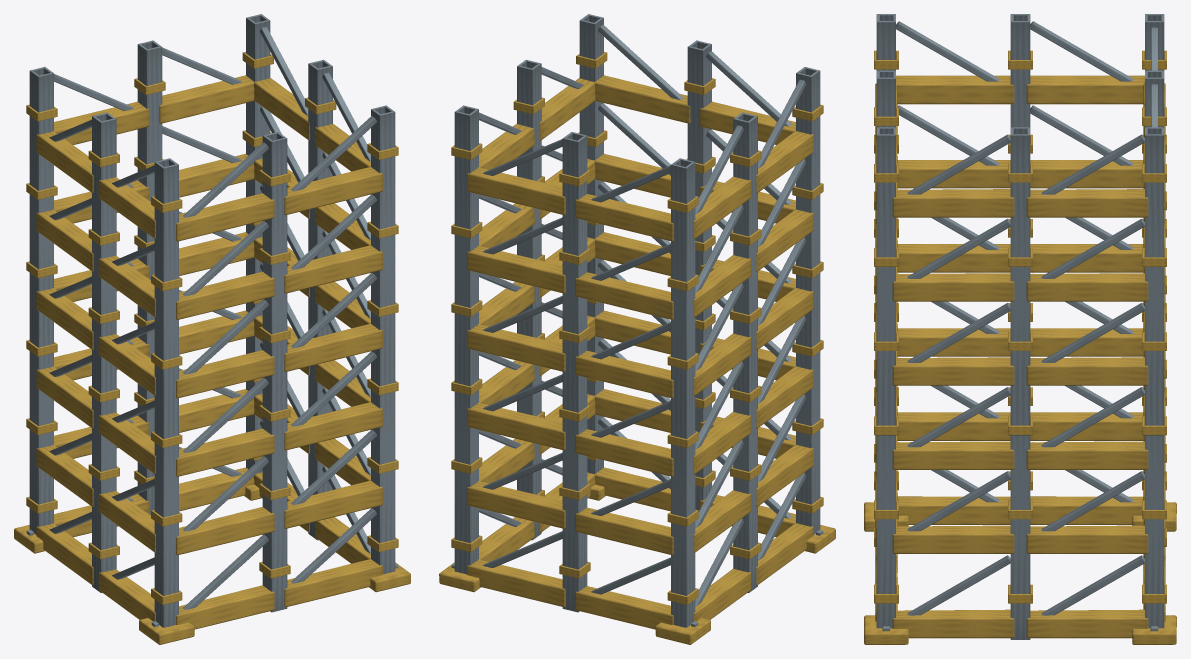
The picture shows the model from 3 angles, left to right: view 1: azimuth 30°, elevation 25°; view 2: azimuth 150°, elevation 25°; view 3: azimuth 270°, elevation 25°; orthographic projection. The views are drawn at different scales.
Parts seen in each view (by area): view 1: Tier 0 side 0 post 0, Tier 0 side 0 post 1, Tier 0 side 1 post 0, Tier 0 side 3 post 0, Tier 0 side 3 post 1, Tier 0 side 2 post 1, Tier 0 side 1 post 1, Tier 0 side 2 post 0, Tier 0 bay 0-5-0 service deck, Tier 0 bay 0-3-0 service deck, Tier 0 bay 0-2-0 service deck, Tier 0 bay 0-4-1 service deck (+58 smaller); view 2: Tier 0 side 3 post 0, Tier 0 side 2 post 1, Tier 0 side 2 post 0, Tier 0 side 0 post 0, Tier 0 side 3 post 1, Tier 0 side 1 post 1, Tier 0 side 0 post 1, Tier 0 side 1 post 0, Tier 0 bay 2-2-0 service deck, Tier 0 bay 2-5-1 service deck, Tier 0 bay 2-1-1 service deck, Tier 0 bay 2-4-0 service deck (+68 smaller); view 3: Tier 0 side 1 post 1, Tier 0 side 1 post 0, Tier 0 side 2 post 0, Tier 0 bay 1-5-1 service deck, Tier 0 bay 1-5-0 service deck, Tier 0 bay 3-5-1 service deck, Tier 0 bay 3-5-0 service deck, Tier 0 bay 1-4-0 service deck, Tier 0 bay 1-4-1 service deck, Tier 0 bay 1-3-1 service deck, Tier 0 bay 1-3-0 service deck, Tier 0 bay 1-2-1 service deck (+46 smaller).
Boxes of the visible parts, <box> form: Tier 0 side 0 post 0: <box>154,158,178,627</box>; Tier 0 side 0 post 1: <box>262,132,287,612</box>; Tier 0 side 1 post 0: <box>371,105,395,574</box>; Tier 0 side 3 post 0: <box>29,67,53,534</box>; Tier 0 side 3 post 1: <box>92,112,116,592</box>; Tier 0 side 2 post 1: <box>137,40,162,515</box>; Tier 0 side 1 post 1: <box>308,59,332,540</box>; Tier 0 side 2 post 0: <box>246,14,270,473</box>; Tier 0 bay 0-5-0 service deck: <box>176,193,274,241</box>; Tier 0 bay 0-3-0 service deck: <box>176,350,274,398</box>; Tier 0 bay 0-2-0 service deck: <box>176,428,274,476</box>; Tier 0 bay 0-4-1 service deck: <box>284,245,382,293</box>; Tier 0 side 3 post 0: <box>671,158,695,627</box>; Tier 0 side 2 post 1: <box>562,132,587,612</box>; Tier 0 side 2 post 0: <box>454,105,478,574</box>; Tier 0 side 0 post 0: <box>796,67,820,534</box>; Tier 0 side 3 post 1: <box>733,112,757,592</box>; Tier 0 side 1 post 1: <box>517,59,541,540</box>; Tier 0 side 0 post 1: <box>687,40,711,511</box>; Tier 0 side 1 post 0: <box>579,14,603,473</box>; Tier 0 bay 2-2-0 service deck: <box>467,403,565,450</box>; Tier 0 bay 2-5-1 service deck: <box>575,194,673,241</box>; Tier 0 bay 2-1-1 service deck: <box>575,507,673,555</box>; Tier 0 bay 2-4-0 service deck: <box>467,246,565,293</box>; Tier 0 side 1 post 1: <box>1010,127,1030,639</box>; Tier 0 side 1 post 0: <box>876,127,895,628</box>; Tier 0 side 2 post 0: <box>1145,127,1164,628</box>; Tier 0 bay 1-5-1 service deck: <box>1026,189,1148,217</box>; Tier 0 bay 1-5-0 service deck: <box>892,189,1014,217</box>; Tier 0 bay 3-5-1 service deck: <box>896,75,1014,104</box>; Tier 0 bay 3-5-0 service deck: <box>1026,75,1144,104</box>; Tier 0 bay 1-4-0 service deck: <box>892,273,1014,301</box>; Tier 0 bay 1-4-1 service deck: <box>1026,273,1148,301</box>; Tier 0 bay 1-3-1 service deck: <box>1026,357,1148,385</box>; Tier 0 bay 1-3-0 service deck: <box>892,357,1014,385</box>; Tier 0 bay 1-2-1 service deck: <box>1026,441,1148,469</box>.
Size of the model in its own units: 1.05 by 1.87 by 1.05.
Materials: 2 (2 with a texture image).
